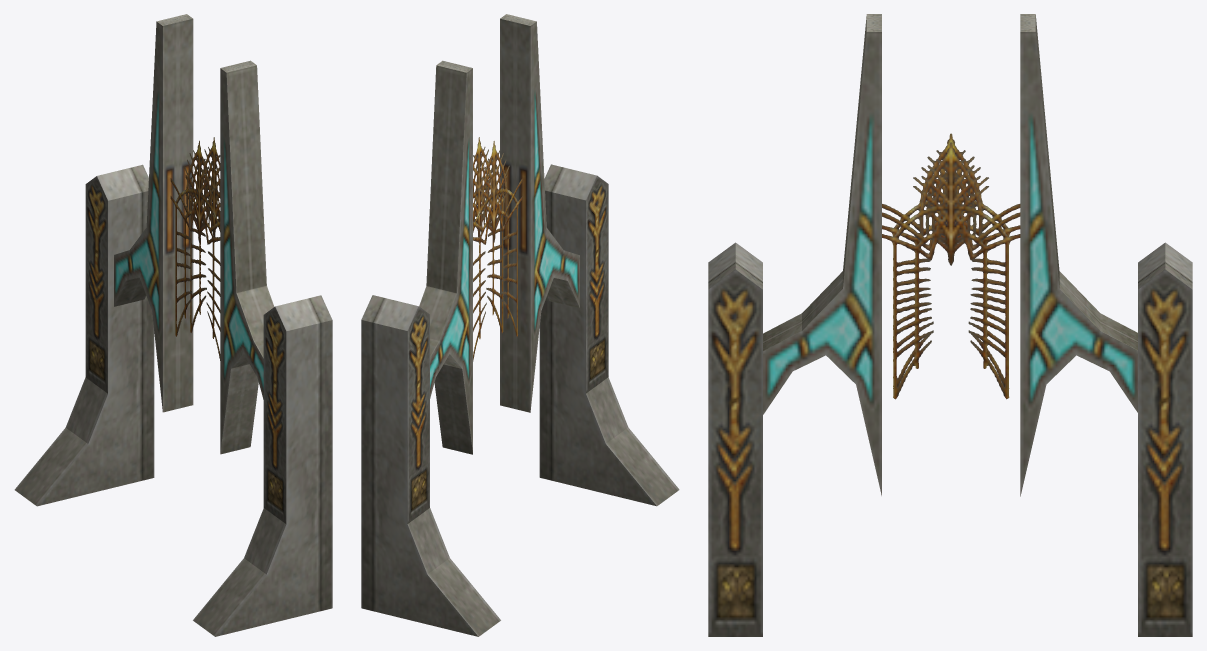
Rendered from fswz_lizhu_06.FBX.
The picture shows the model from 3 angles, left to right: view 1: azimuth 30°, elevation 25°; view 2: azimuth 150°, elevation 25°; view 3: azimuth 270°, elevation 25°; orthographic projection. The views are drawn at different scales.
Visible parts, largest first — view 1: kzwz_lizhu_06_01, kzwz_lizhu_06_02; view 2: kzwz_lizhu_06_01, kzwz_lizhu_06_02; view 3: kzwz_lizhu_06_02, kzwz_lizhu_06_01.
Part boxes in pixels (<box>): kzwz_lizhu_06_01: <box>14,164,332,636</box>; kzwz_lizhu_06_02: <box>114,14,274,454</box>; kzwz_lizhu_06_01: <box>361,164,679,636</box>; kzwz_lizhu_06_02: <box>419,14,579,454</box>; kzwz_lizhu_06_02: <box>763,14,1137,496</box>; kzwz_lizhu_06_01: <box>708,242,1192,636</box>.
Bounding box in the file's own units: 245 × 994 × 728.
